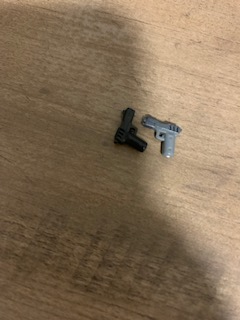pistol: (140, 108, 182, 161), (112, 103, 150, 155)
